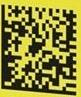datamatrix: (3, 6, 78, 97)
